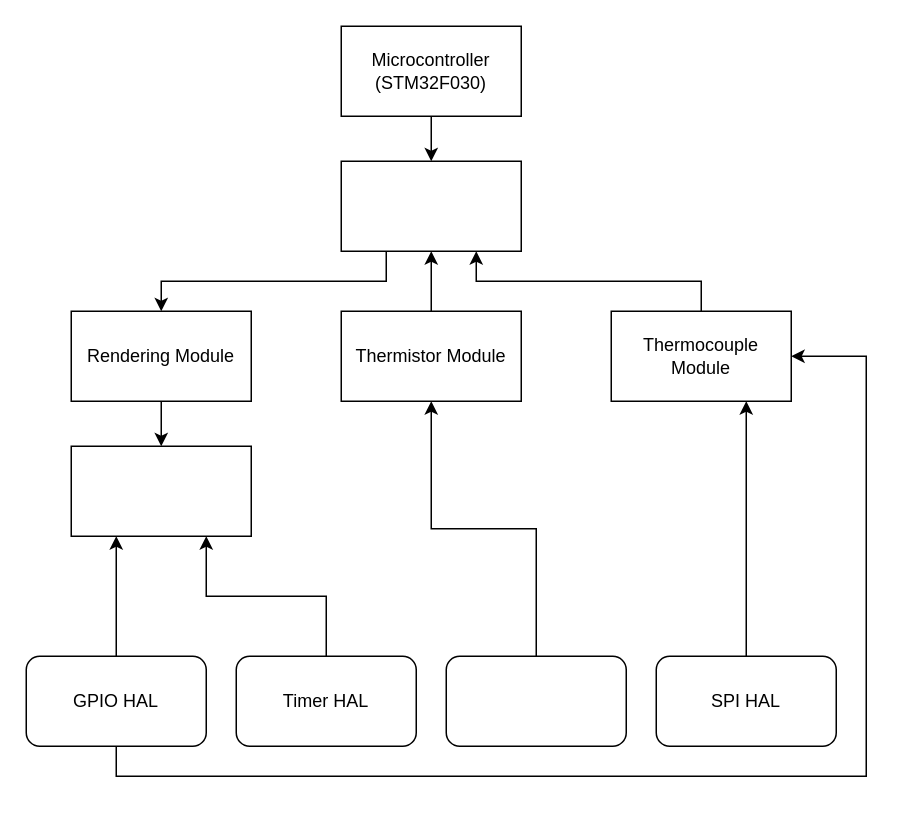
The diagram is 905 pixels wide and 815 high, and some of its shapes have lost their labels. The shapes that lost their labels are listed below. From the top down, each one's centre as x and y in pixels, then its label:
At [430,205]: "Controller Module".
At [160,490]: "Display Module".
At [535,700]: "ADC HAL".
